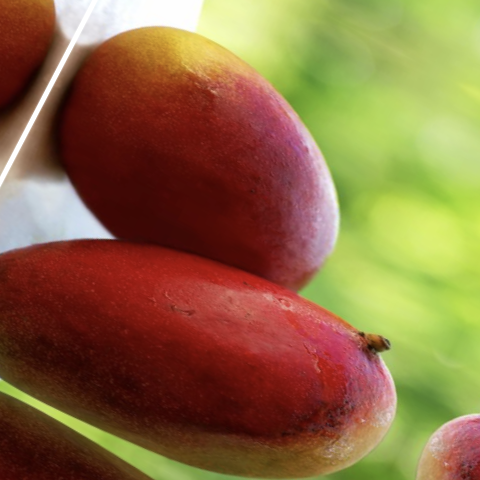mango: (0, 124, 443, 480), (0, 0, 407, 359)
